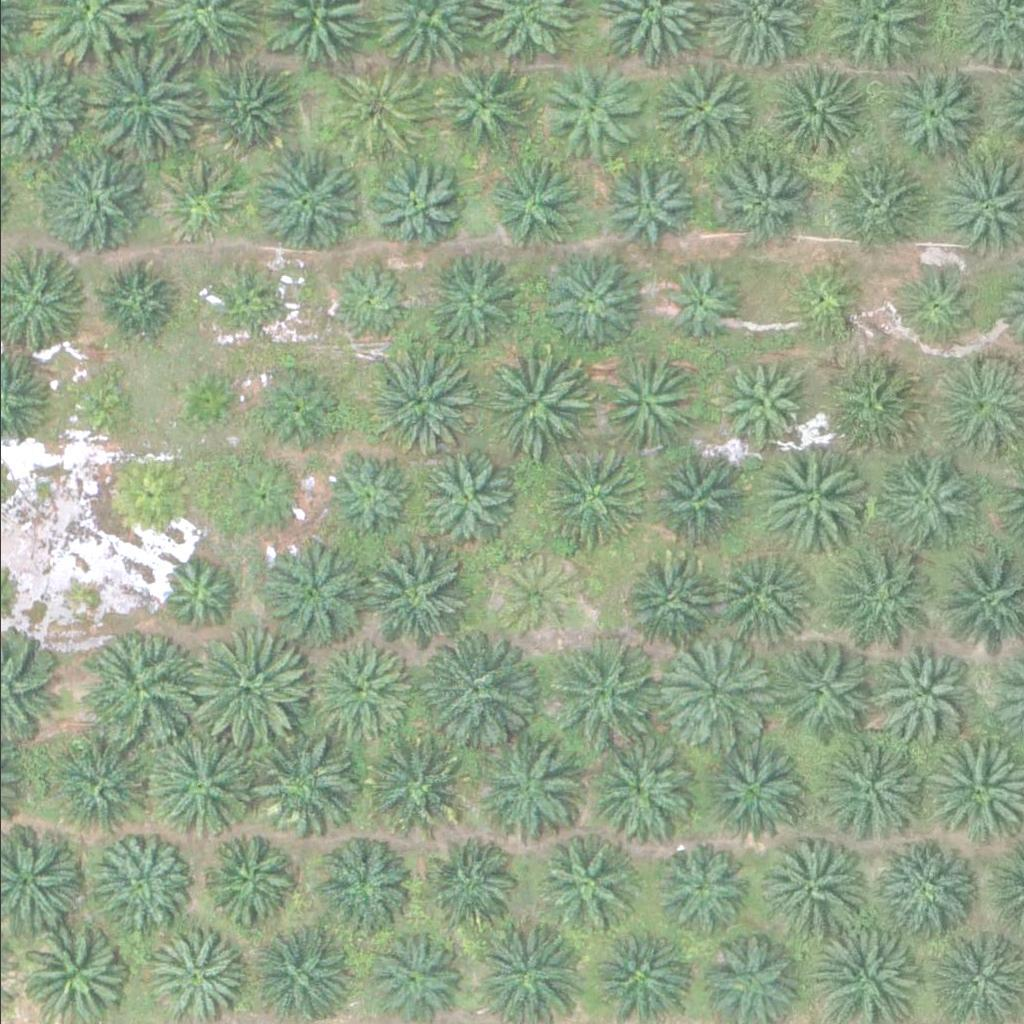Kelapa_Sawit: (542, 633, 656, 746), (757, 434, 870, 547), (86, 636, 199, 749), (250, 726, 363, 839), (417, 633, 530, 746), (364, 343, 477, 456), (476, 344, 589, 457), (148, 729, 262, 841), (196, 631, 310, 743), (658, 634, 771, 746), (815, 735, 928, 847), (81, 42, 194, 154), (40, 145, 153, 257), (534, 442, 647, 554), (250, 144, 363, 256), (351, 540, 464, 652), (258, 535, 371, 647), (766, 67, 867, 167), (883, 67, 984, 167), (819, 151, 920, 251), (710, 156, 811, 256), (823, 366, 924, 466), (876, 448, 977, 548), (647, 439, 748, 539), (716, 542, 817, 642), (816, 552, 917, 652), (873, 643, 974, 743), (708, 741, 809, 841), (877, 842, 978, 942), (752, 841, 853, 941), (196, 826, 297, 926), (88, 833, 189, 933), (308, 642, 409, 742), (414, 447, 515, 547), (595, 351, 696, 451), (535, 249, 636, 349), (422, 251, 523, 351), (363, 153, 464, 253), (545, 59, 646, 159), (435, 56, 536, 156), (653, 63, 753, 163), (767, 636, 867, 736), (193, 57, 293, 157), (51, 740, 151, 840), (319, 838, 419, 938), (539, 830, 639, 930), (423, 835, 523, 935), (590, 741, 690, 841), (473, 741, 573, 841), (360, 733, 460, 833), (620, 543, 720, 643), (327, 62, 427, 162), (106, 451, 195, 539), (784, 260, 872, 348), (897, 260, 985, 348), (716, 355, 804, 443), (220, 451, 308, 539), (489, 552, 577, 640), (322, 256, 410, 344), (490, 159, 578, 247), (599, 158, 687, 246), (323, 453, 412, 540), (652, 255, 740, 342), (656, 844, 744, 931), (157, 159, 245, 246), (93, 258, 181, 345), (152, 547, 240, 634), (250, 362, 338, 449), (170, 362, 246, 437), (62, 366, 138, 441), (200, 268, 275, 343)
